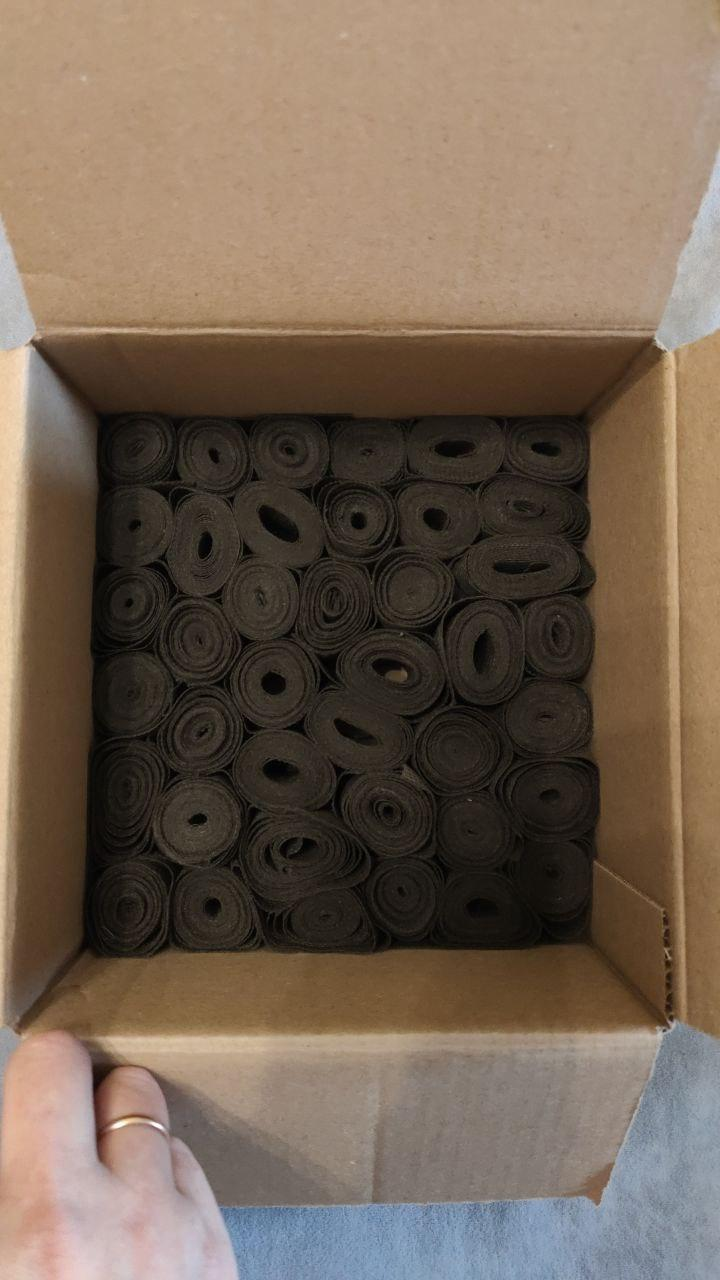roll: (237, 807, 365, 909), (303, 685, 416, 778), (147, 770, 247, 873), (335, 626, 445, 718), (455, 532, 587, 608), (439, 600, 529, 710), (230, 727, 337, 818), (336, 768, 438, 861), (89, 738, 170, 852), (410, 704, 510, 796), (87, 857, 174, 959), (167, 862, 261, 956), (227, 637, 320, 731), (232, 479, 327, 571), (433, 868, 538, 951), (476, 470, 589, 547), (502, 756, 602, 843), (163, 491, 243, 599), (500, 677, 598, 763), (293, 556, 378, 655), (154, 688, 245, 780), (369, 548, 459, 638), (361, 854, 448, 946), (509, 834, 596, 926), (156, 595, 241, 689), (518, 592, 602, 686), (431, 787, 521, 874), (394, 478, 486, 563), (92, 646, 176, 739), (220, 555, 306, 645), (406, 413, 506, 489), (273, 884, 378, 956), (95, 482, 175, 573), (91, 562, 172, 651), (319, 478, 402, 562), (504, 413, 593, 488), (249, 413, 332, 491), (326, 415, 410, 490), (98, 410, 177, 489), (175, 415, 253, 495)
